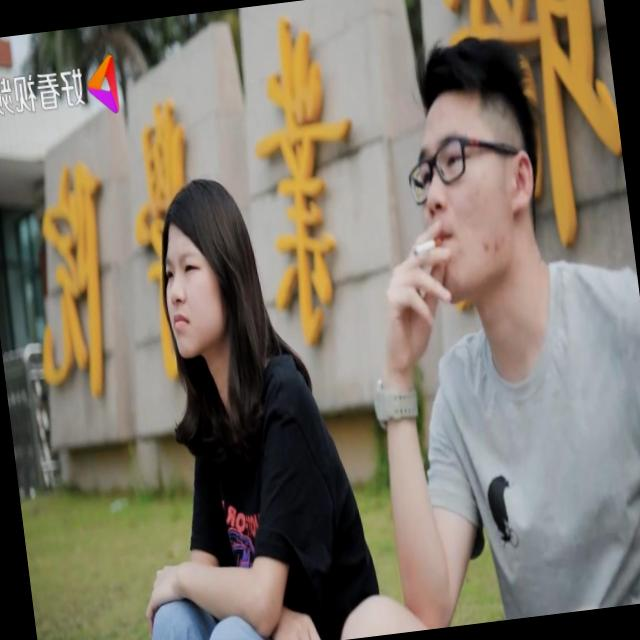smoke: (406, 224, 447, 266)
